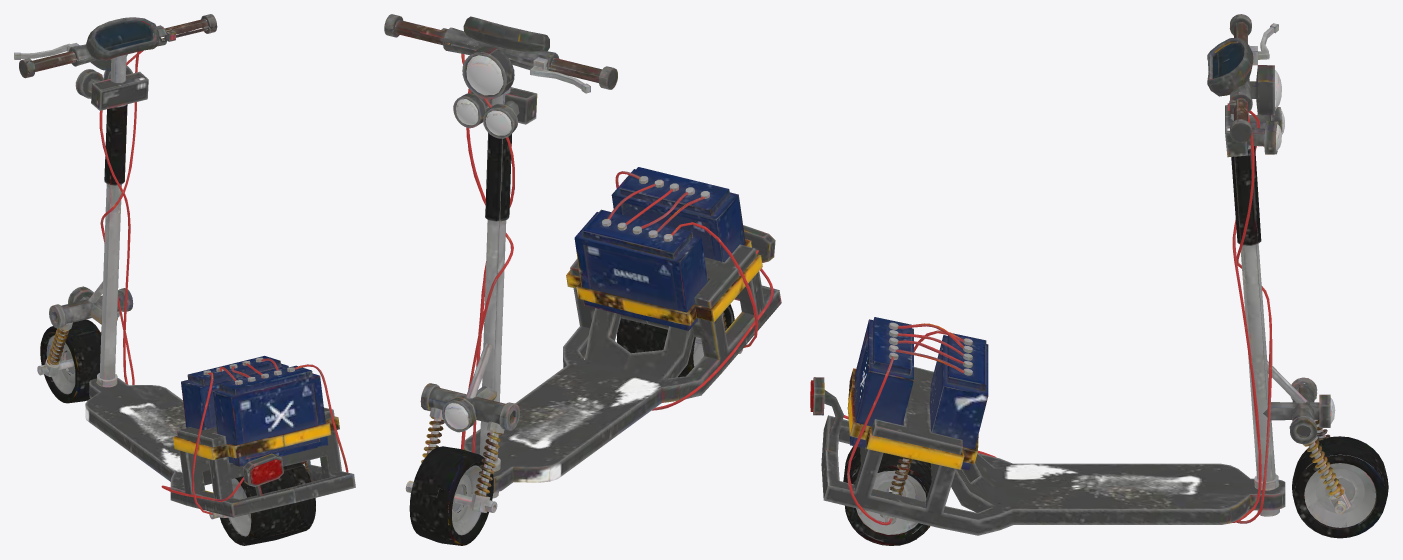
File: scooter.glb
3 views of the same model, side by side, from view 1: azimuth 30°, elevation 25°; view 2: azimuth 150°, elevation 25°; view 3: azimuth 270°, elevation 25° (orthographic). The views are drawn at different scales.
Visible parts, largest first — view 1: defaultMaterial; view 2: defaultMaterial; view 3: defaultMaterial.
Part boxes in pixels (x1,y1,x2,y2): defaultMaterial: [14, 14, 355, 545]; defaultMaterial: [384, 14, 781, 545]; defaultMaterial: [810, 14, 1388, 545].
Bounding box in the file's own units: 0.5351 × 1.1 × 1.2.
1 material, 1 textured.
